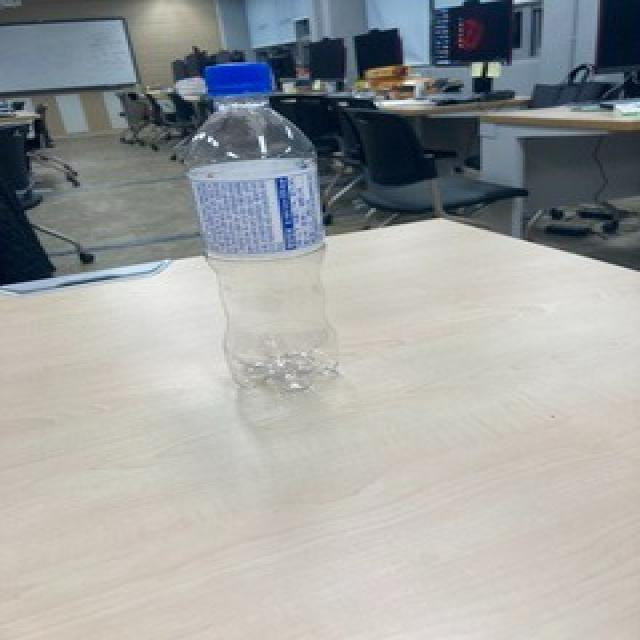good: (182, 56, 342, 398)
